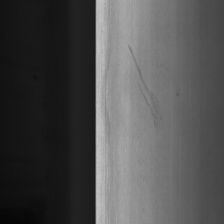water_spot: (125, 40, 182, 139)
